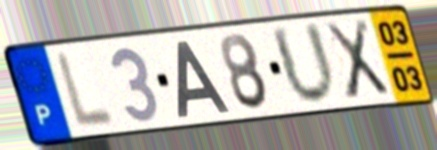3: (108, 43, 161, 125)
8: (219, 31, 270, 113)
A: (175, 37, 233, 120)
L: (53, 48, 119, 132)
U: (266, 18, 340, 109)
X: (321, 16, 393, 104)
